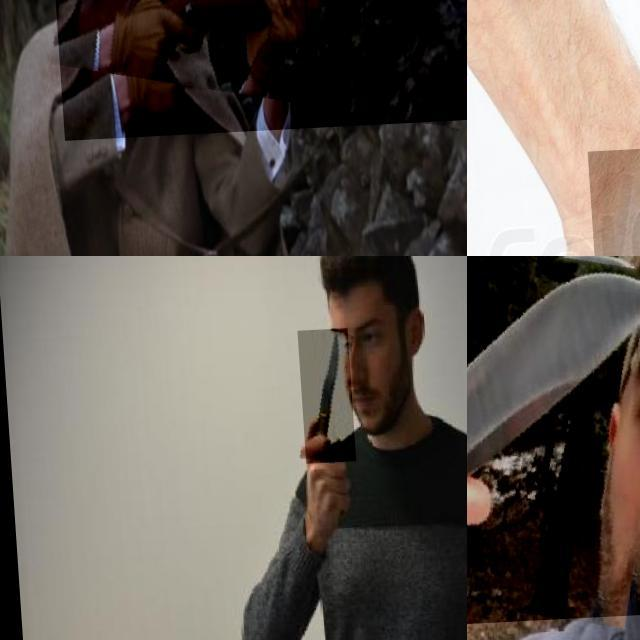-: (467, 256, 640, 631), (296, 332, 352, 467)
gun-knife-thesis - v11 Yolov5 augmented: (44, 0, 467, 142)
